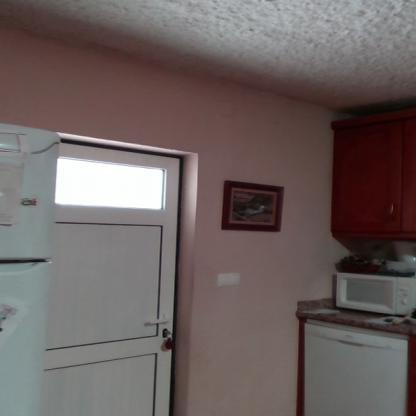door: (44, 147, 171, 416)
lever: (144, 314, 170, 328)
